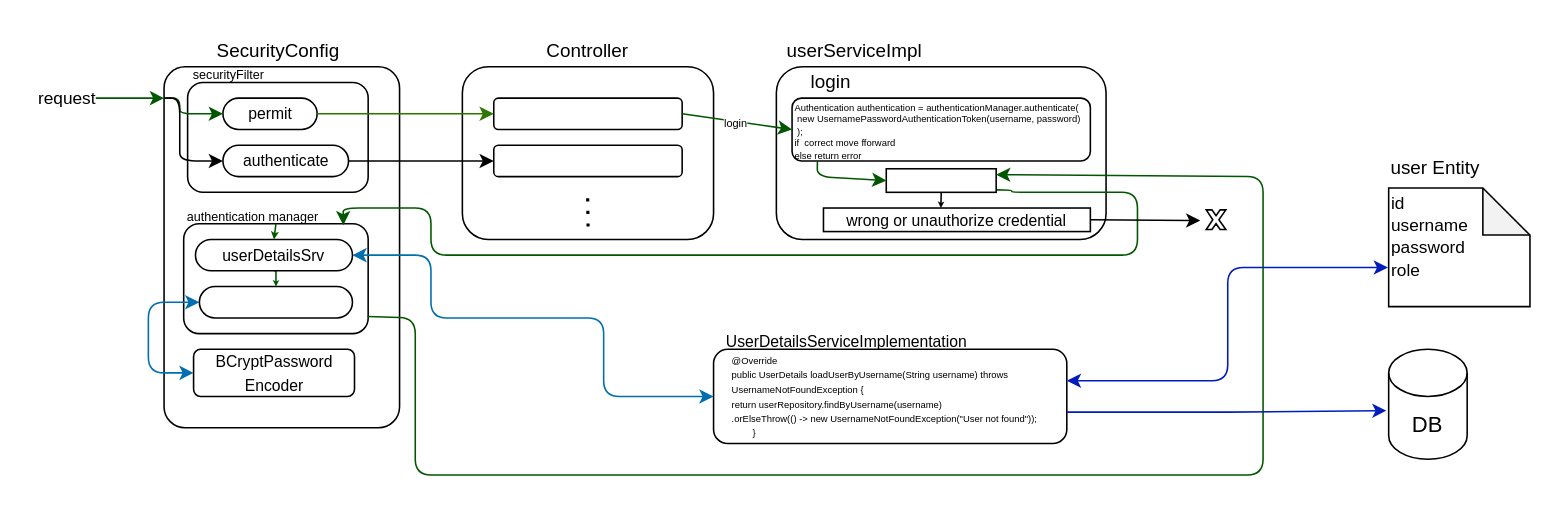
The diagram is 1557 pixels wide and 515 high, and some of its shapes have lost their labels. The centre of each missing label's shape, as x and y in pixels:
Auth ("/auth"): (587,113)
authorize: (940,179)
other: (587,160)
passwordEncode: (275,301)
